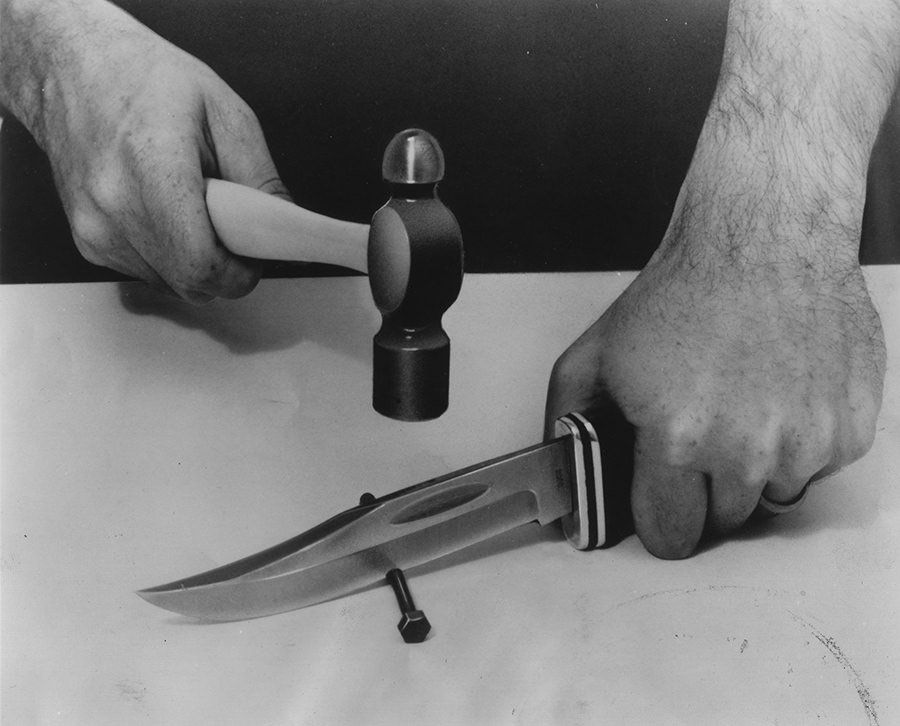knife: (118, 388, 716, 630)
